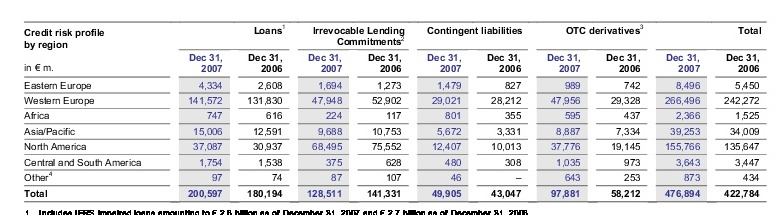table: (0, 0, 781, 215)
